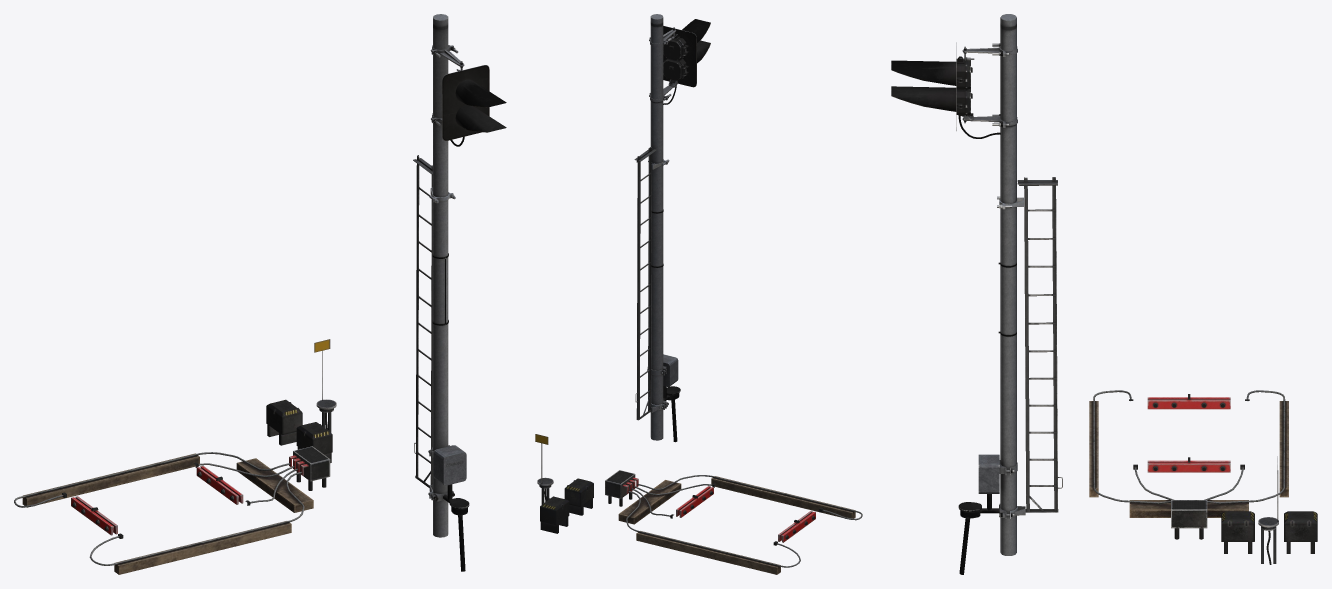
Rendered from RM_sig_MM1_2_line.gltf.
3 renders of one model, left to right at view 1: azimuth 30°, elevation 25°; view 2: azimuth 150°, elevation 25°; view 3: azimuth 270°, elevation 25°, orthographic. The views are drawn at different scales.
Parts seen in each view (by area): view 1: Изостык, Светофор ПРОХОДНОЙ, Светофор выходной, Object001; view 2: Изостык, Светофор ПРОХОДНОЙ, Светофор выходной, Object001; view 3: Светофор ПРОХОДНОЙ, Изостык, Светофор выходной.
Boxes of the visible parts, x1=… form: Изостык: x1=14, y1=339, x2=336, y2=574; Светофор ПРОХОДНОЙ: x1=413, y1=14, x2=469, y2=571; Светофор выходной: x1=430, y1=45, x2=506, y2=146; Object001: x1=442, y1=65, x2=489, y2=140; Изостык: x1=535, y1=434, x2=862, y2=574; Светофор ПРОХОДНОЙ: x1=634, y1=14, x2=680, y2=442; Светофор выходной: x1=649, y1=19, x2=710, y2=104; Object001: x1=663, y1=25, x2=696, y2=87; Светофор ПРОХОДНОЙ: x1=958, y1=14, x2=1062, y2=574; Изостык: x1=1089, y1=390, x2=1317, y2=564; Светофор выходной: x1=891, y1=43, x2=1017, y2=138.
Bounding box in the file's own units: 4.1 × 6.54 × 4.54.
4 materials, 3 textured.
